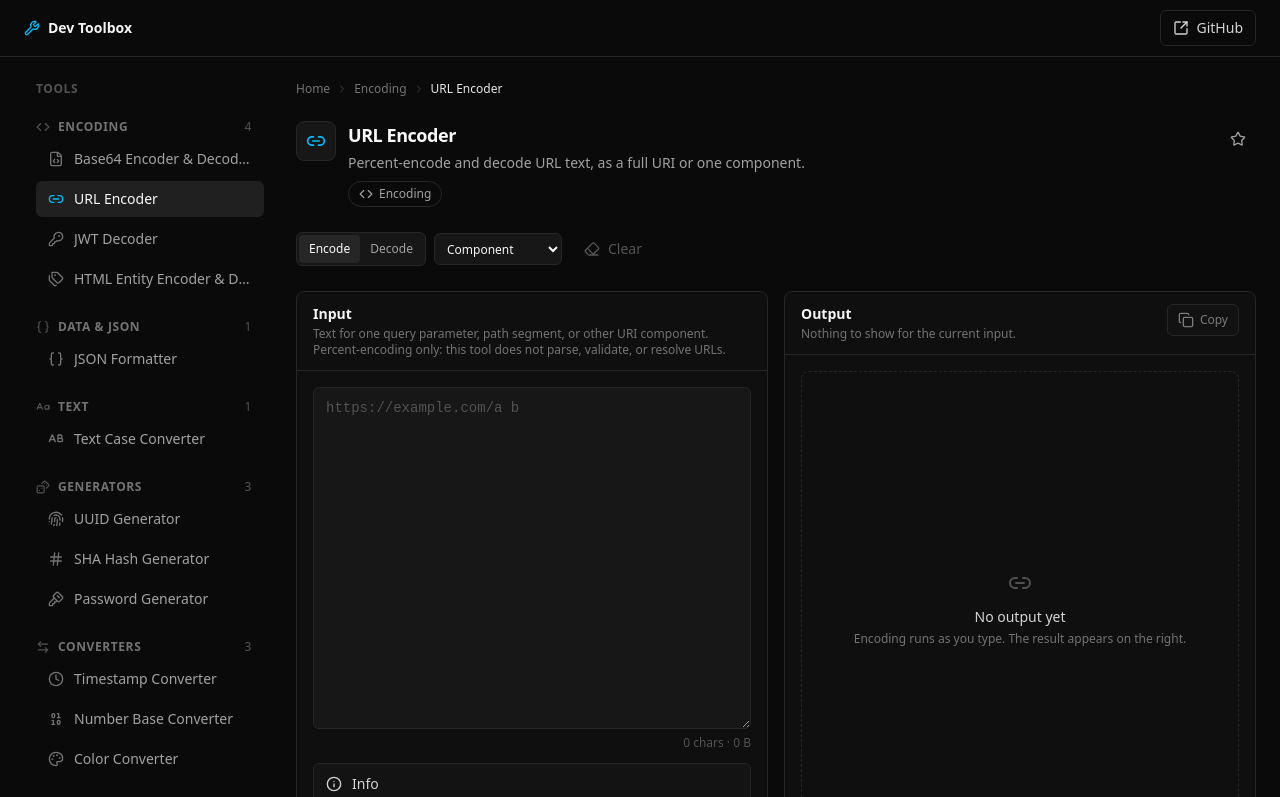
it: URL Encoder › reports malformed percent sequences when decoding
Expected: the heading "URL Encoder" is shown, [348, 123, 456, 147]
Click the radio button labelled "Decode". click: (392, 248)
box: [370, 240, 413, 257]
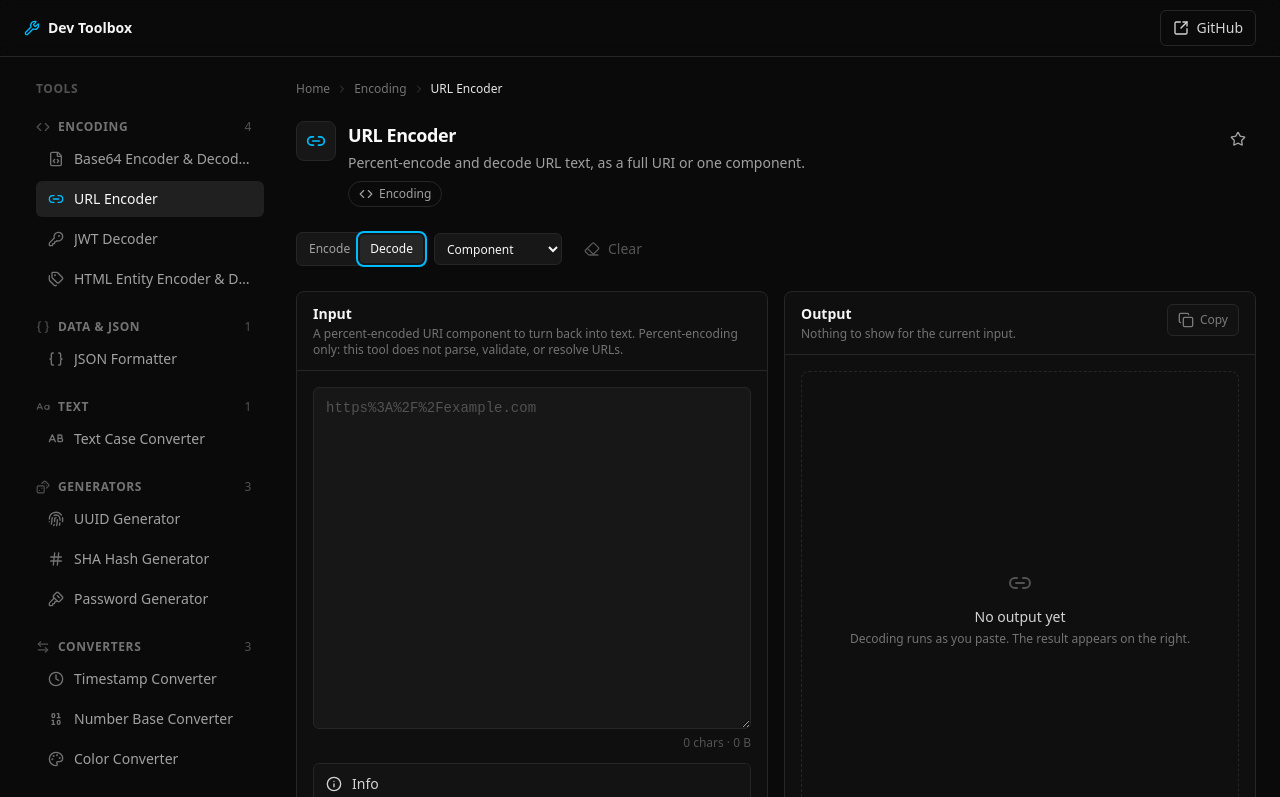
Type "https://a/%" into the text box named "Percent-encoded text". click: (532, 558)
box: [313, 387, 751, 729]
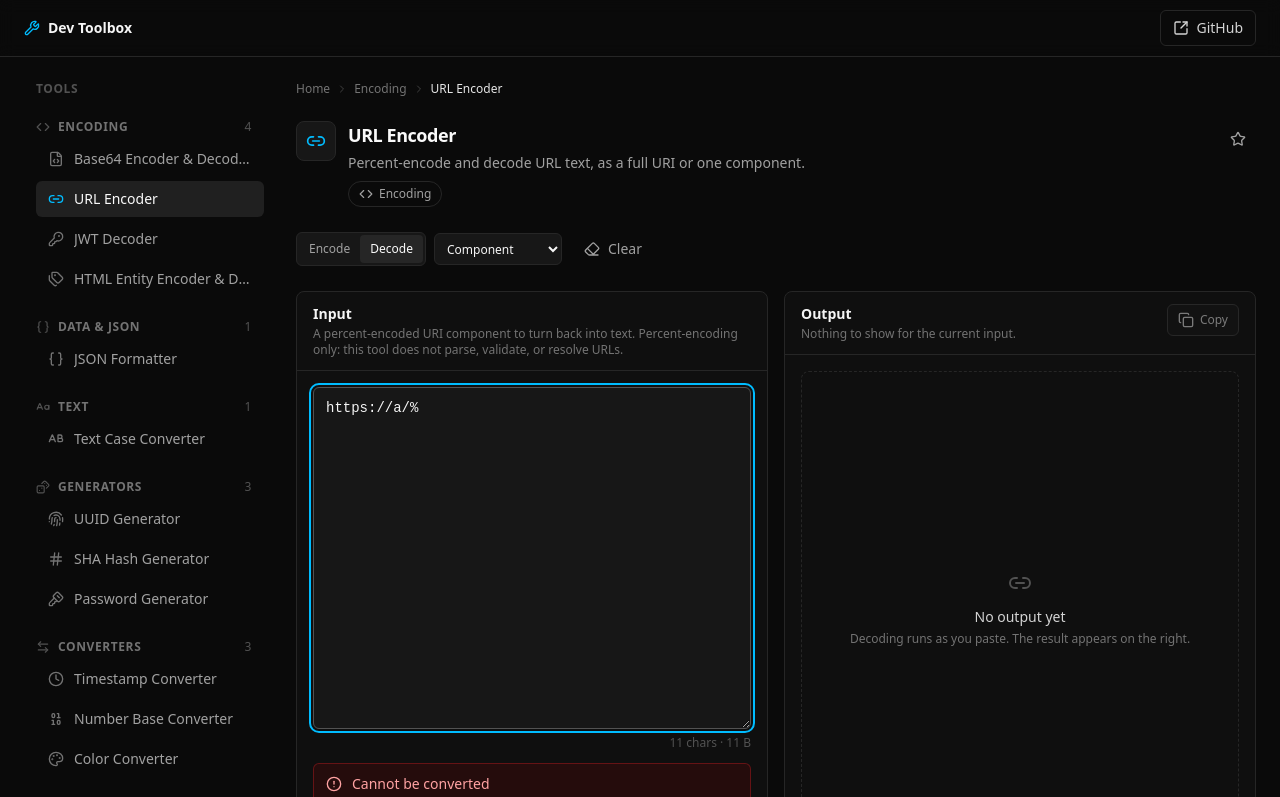
Now the text "Cannot be converted" is shown, box [352, 774, 490, 793]
